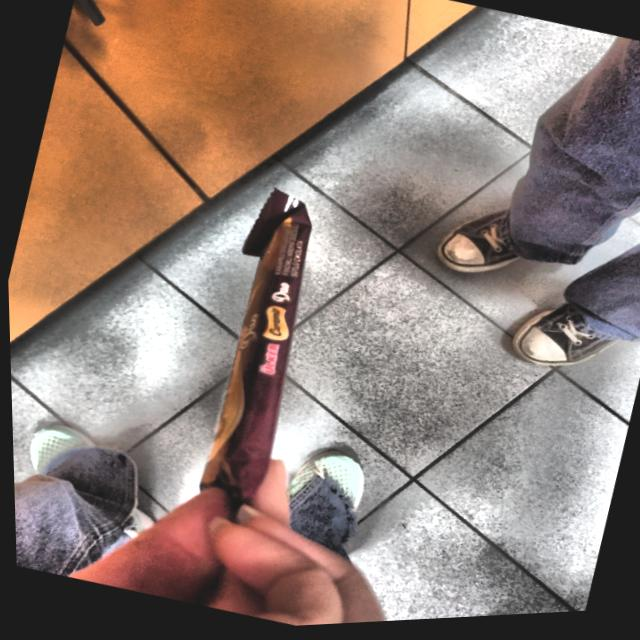Plastic: (203, 188, 313, 519)
